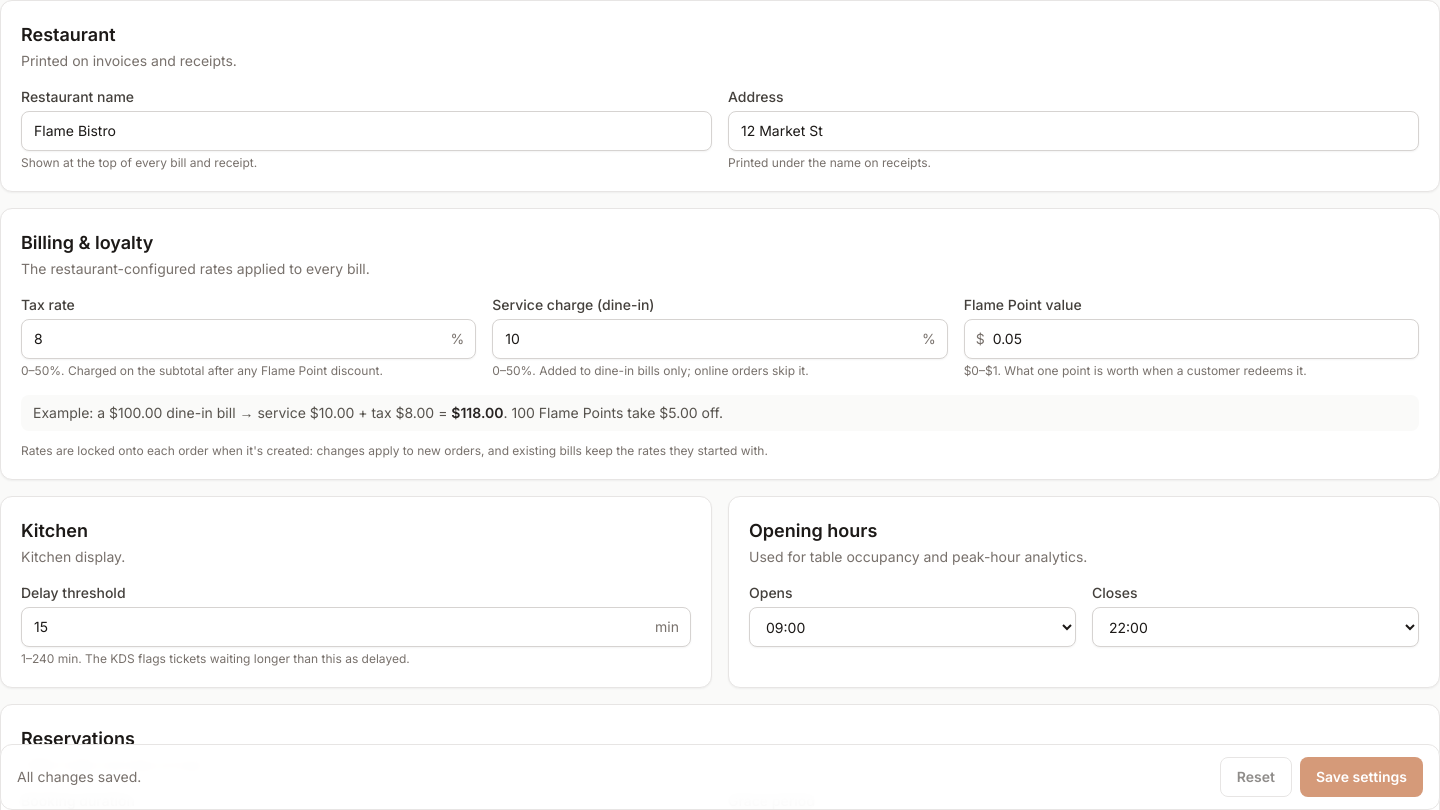
Test: SettingsForm › maps a server range-validation error onto the matching field with friendly units
# make a harmless change so the form is dirty and savable
Type " Extra" into the field showing "Flame Bistro". click: (366, 131)
box: [21,111,712,151]
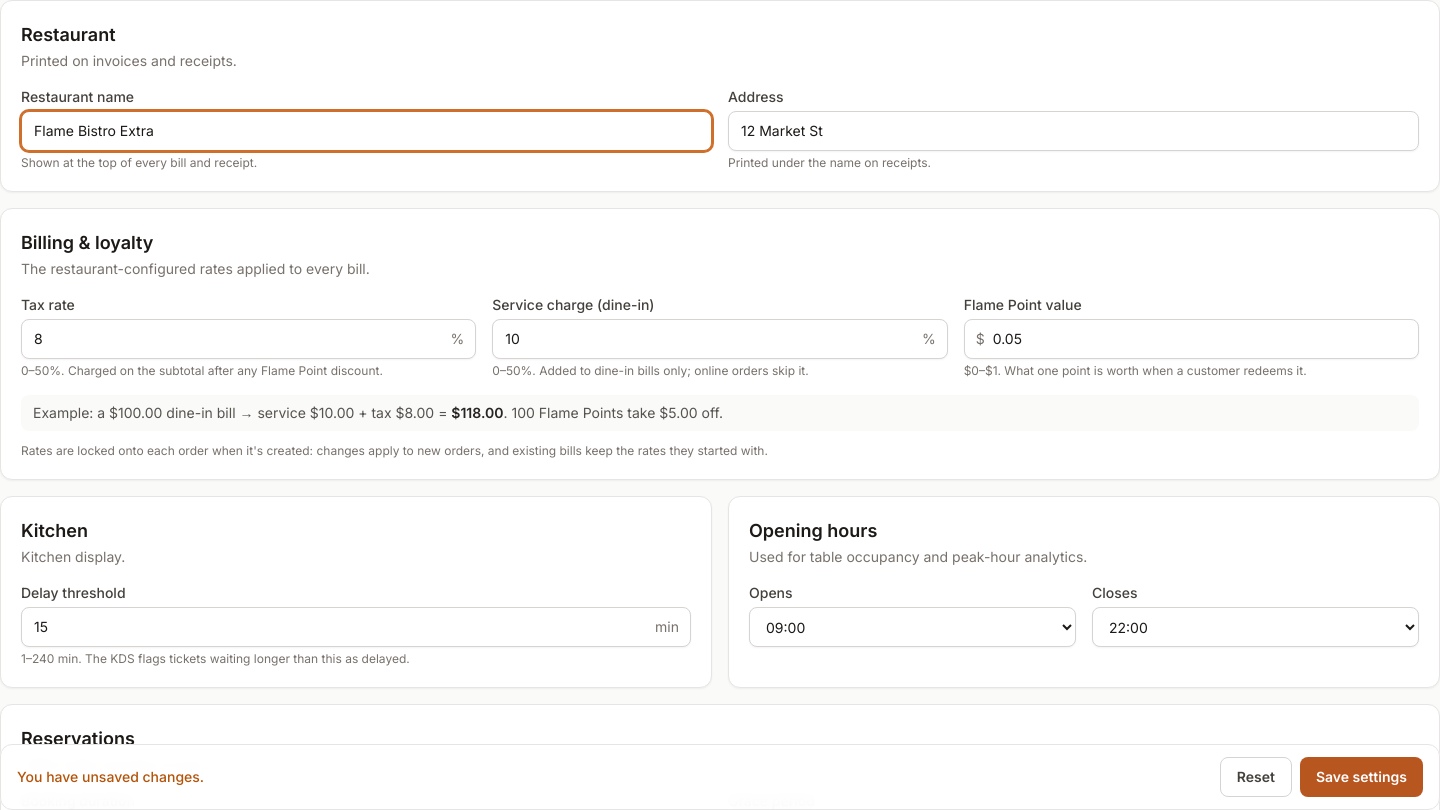
Click the button "Save settings". click: (1361, 777)
box: [1300,757,1423,797]
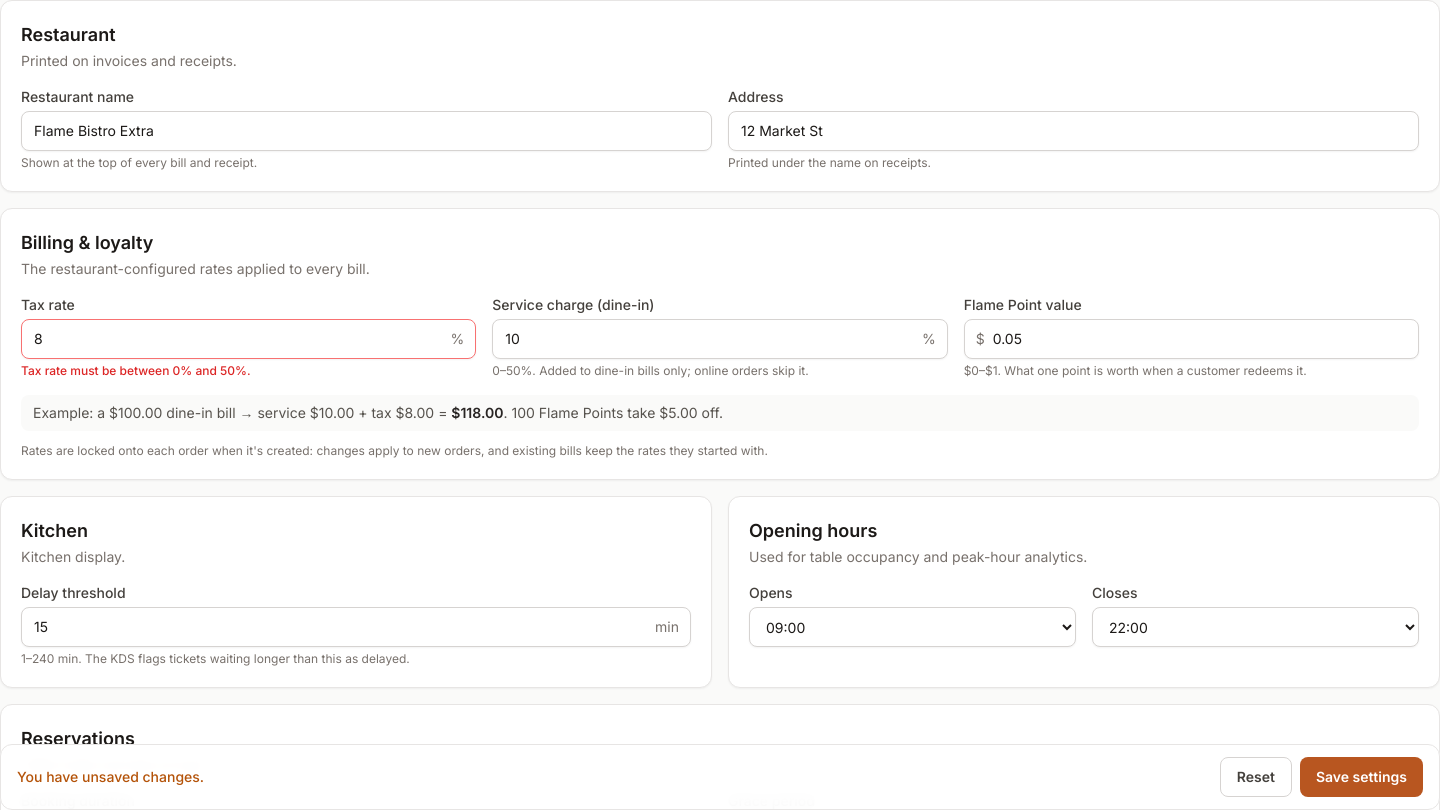
Check: the text "Tax rate must be between 0% and 50%." is shown, box [21,363,251,378]
